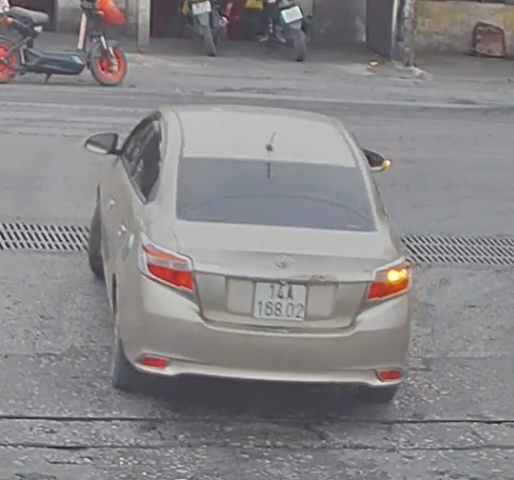vehicle plate: (253, 277, 312, 322)
